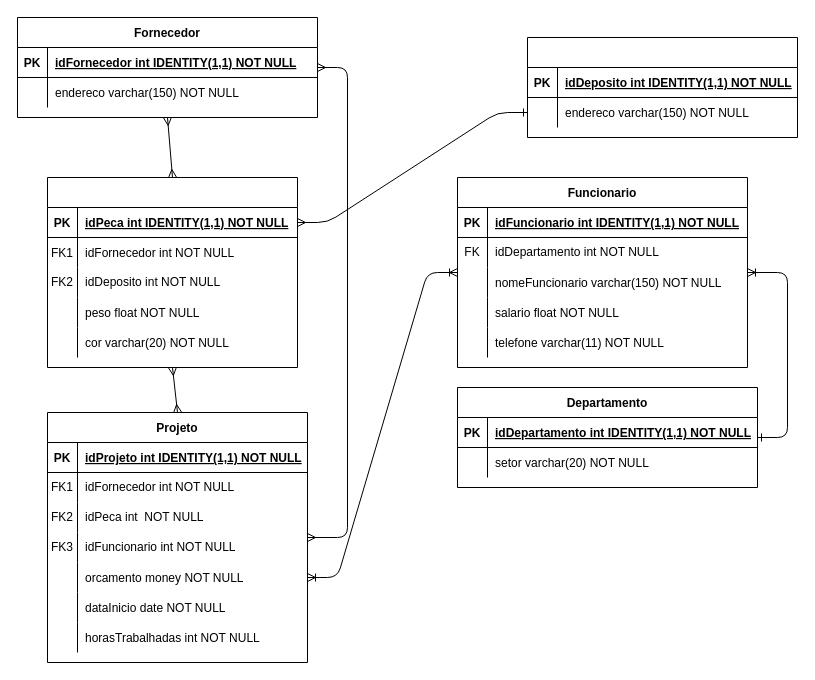
Some shapes in this 815 by 680 pixel diagram are drawn without their labels. Each missing label, with the box of its shape:
Depositos: (526, 36, 798, 138)
Pecas: (46, 176, 298, 368)
